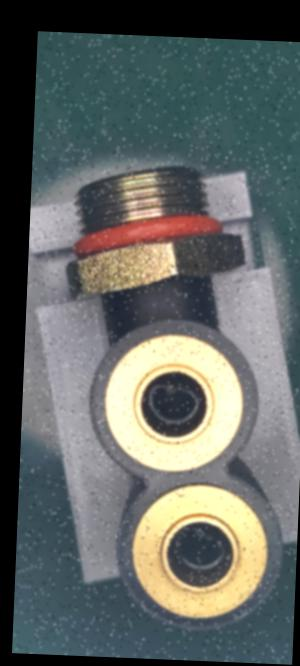off-centered: (168, 520, 238, 572), (142, 378, 210, 427)
